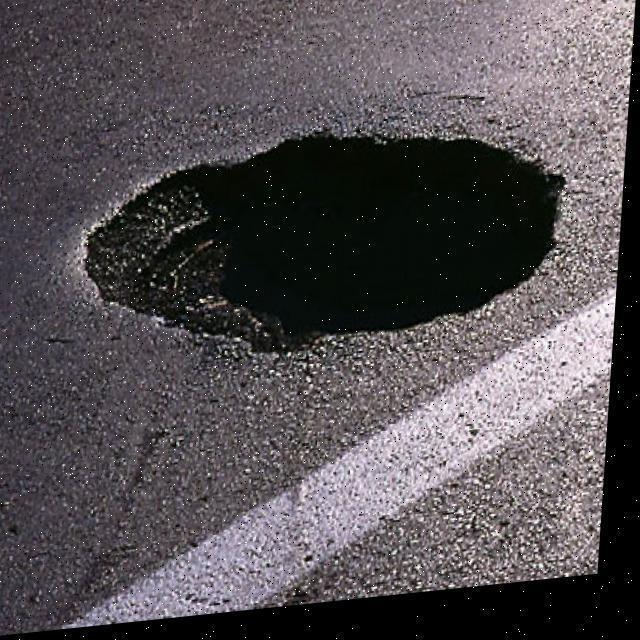Pothole: (88, 135, 564, 350)
